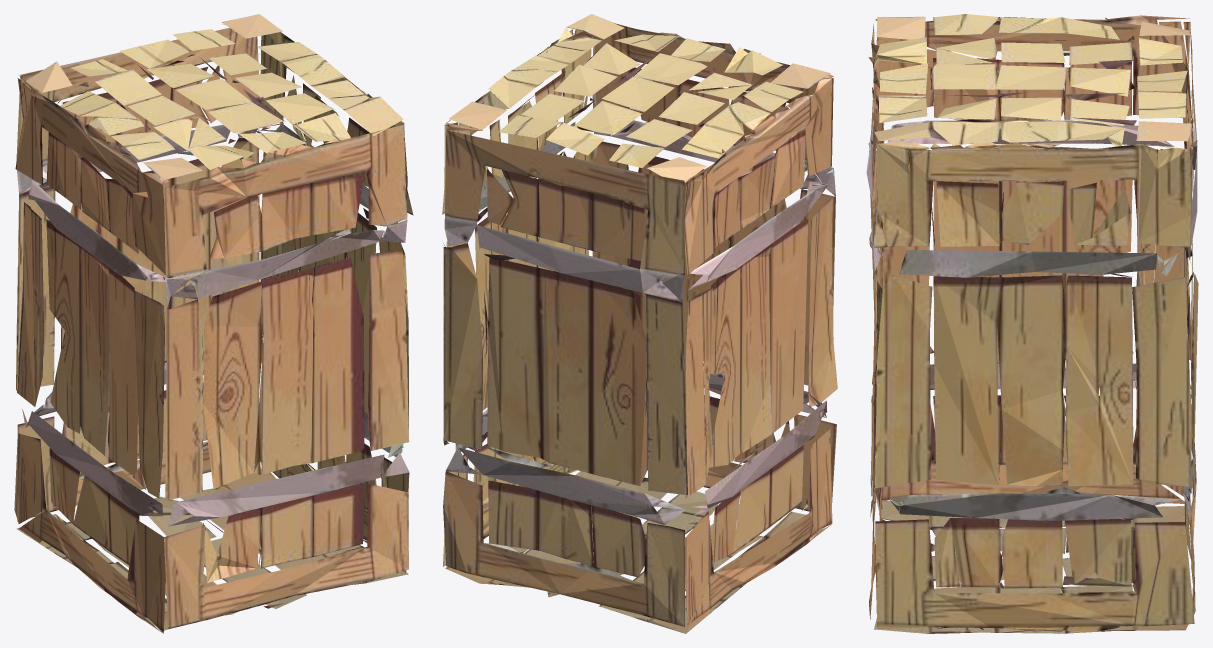
Rendered from crate.glb.
3 renders of one model, left to right at view 1: azimuth 30°, elevation 25°; view 2: azimuth 150°, elevation 25°; view 3: azimuth 270°, elevation 25°, orthographic. The views are drawn at different scales.
Parts seen in each view (by area): view 1: world; view 2: world; view 3: world.
Part boxes in pixels (x1,y1,x2,y2): world: [14, 14, 413, 633]; world: [442, 14, 837, 633]; world: [866, 14, 1198, 633].
Size of the model in its own units: 1.16 by 2 by 1.21.
1 material, 1 textured.
